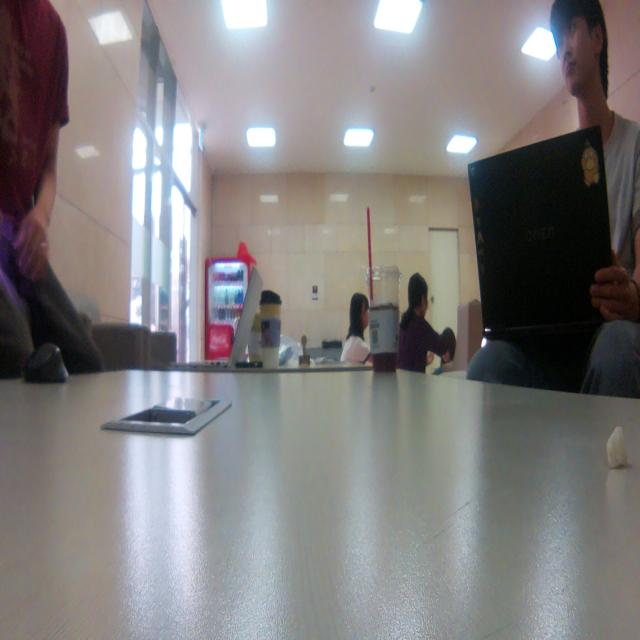target: (298, 334, 310, 369)
